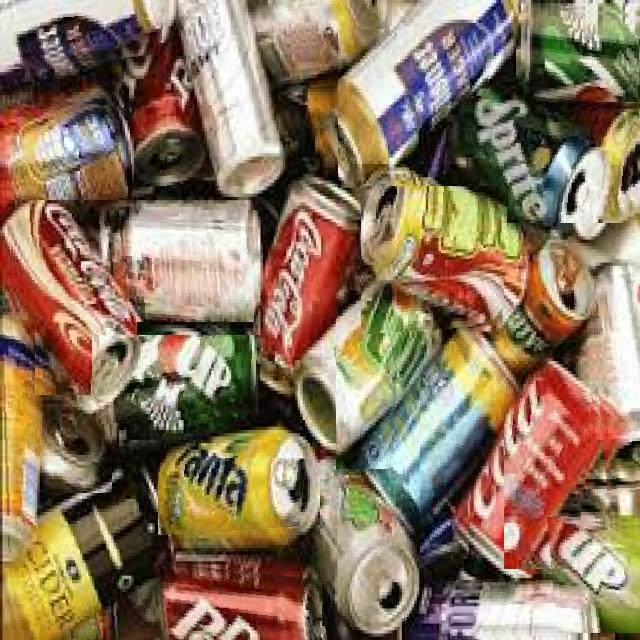Cans: (338, 29, 492, 188), (8, 215, 137, 395), (361, 186, 509, 335), (469, 96, 640, 223), (7, 516, 171, 640), (179, 2, 279, 189), (504, 387, 593, 569), (92, 335, 262, 426), (322, 442, 406, 626), (0, 95, 132, 200), (122, 218, 254, 322), (152, 562, 327, 640), (336, 284, 404, 469), (268, 196, 336, 376), (420, 345, 476, 559), (158, 458, 308, 536), (525, 3, 640, 102), (2, 0, 166, 69), (589, 273, 640, 491), (268, 0, 387, 92), (547, 517, 640, 633), (442, 574, 578, 640), (140, 62, 204, 192), (0, 317, 35, 553), (516, 250, 588, 358), (48, 421, 112, 493)
